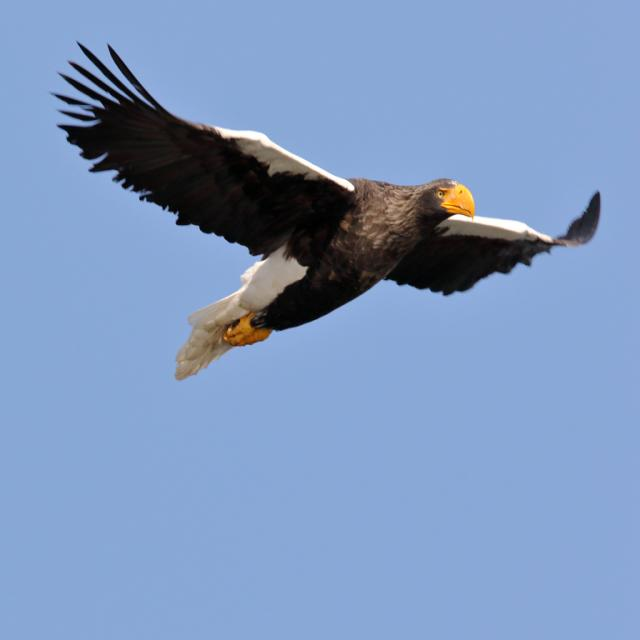bird: (44, 38, 608, 414)
